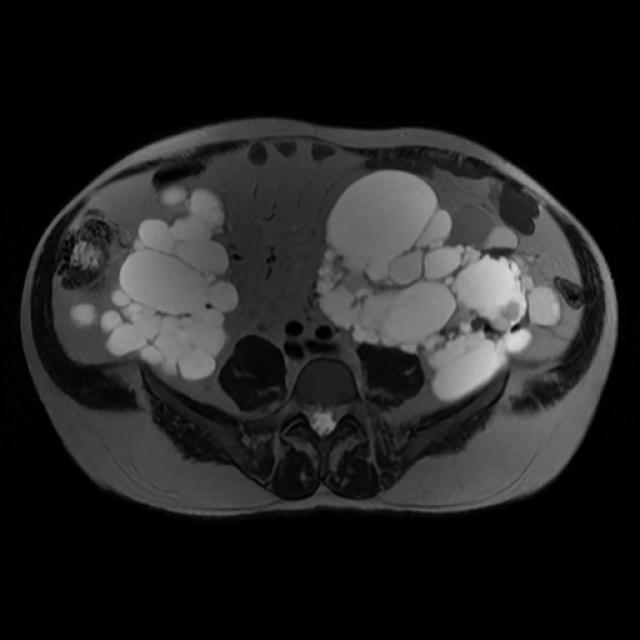sag: (73, 185, 237, 379)
sol: (319, 170, 563, 397)
